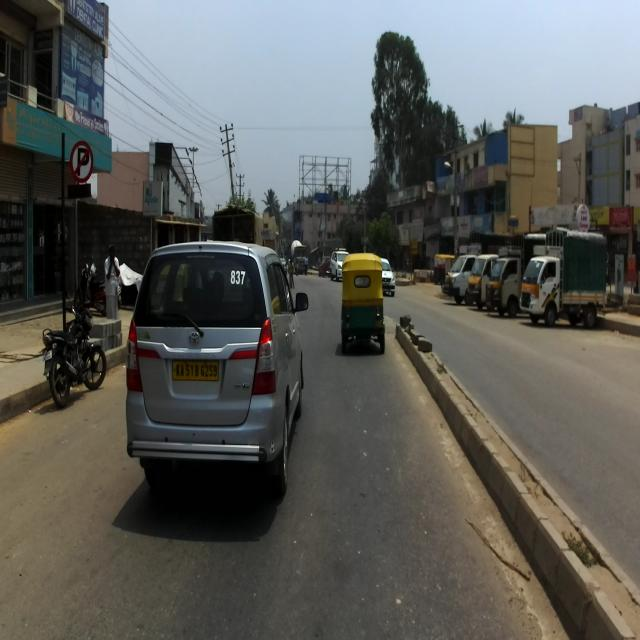auto ahead at: (339, 250, 387, 362)
car ahead at: (128, 235, 311, 492)
motorcycle ahead at: (41, 303, 107, 407)
sign board ahead at: (68, 139, 94, 197)
truck ahead at: (522, 224, 610, 331)
